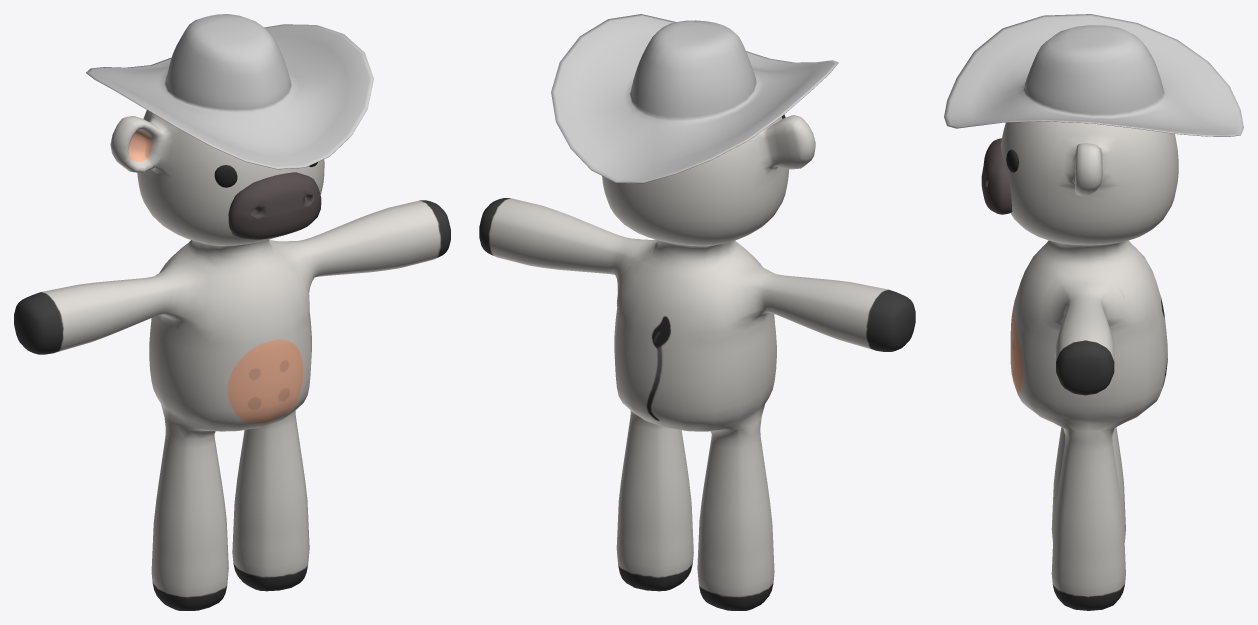
The model's file is v2_costeña.fbx.
3 views of the same model, side by side, from view 1: azimuth 30°, elevation 25°; view 2: azimuth 150°, elevation 25°; view 3: azimuth 270°, elevation 25° (orthographic). The views are drawn at different scales.
Parts seen in each view (by area): view 1: brazos, Vaca_limpia_uvs.004; view 2: brazos, Vaca_limpia_uvs.004; view 3: brazos, Vaca_limpia_uvs.004.
Part boxes in pixels (x1,y1,x2,y2): brazos: (14,110,450,610); Vaca_limpia_uvs.004: (86,14,373,169); brazos: (479,114,915,610); Vaca_limpia_uvs.004: (551,14,838,183); brazos: (981,121,1178,610); Vaca_limpia_uvs.004: (944,14,1243,136).
Size of the model in its own units: 140 by 179 by 88.64.
